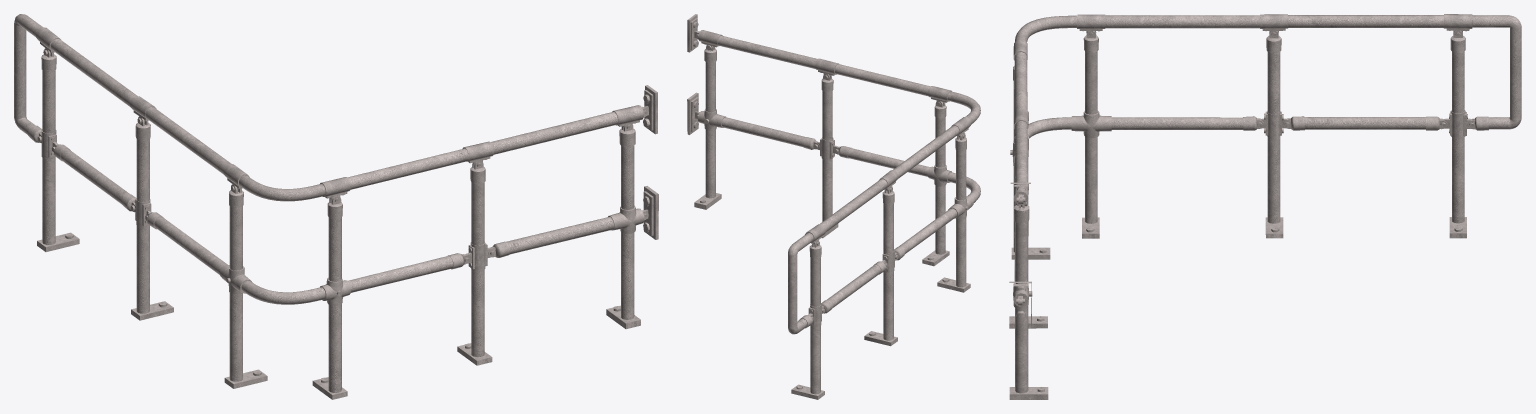
File: SM_Railing_01b.glb
The picture shows the model from 3 angles, left to right: view 1: azimuth 30°, elevation 25°; view 2: azimuth 150°, elevation 25°; view 3: azimuth 270°, elevation 25°; orthographic projection. The views are drawn at different scales.
Visible parts, largest first — view 1: SM_Railing_01b; view 2: SM_Railing_01b; view 3: SM_Railing_01b.
Part boxes in pixels (left/top/right/bottom): SM_Railing_01b: left=14, top=14, right=658, bottom=399; SM_Railing_01b: left=687, top=14, right=980, bottom=399; SM_Railing_01b: left=1009, top=14, right=1521, bottom=399.
Size of the model in its own units: 1.96 by 1.1 by 2.27.
1 material, 1 textured.
